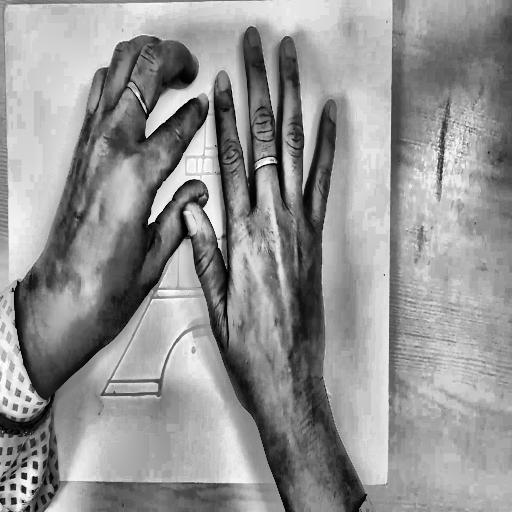bottom_left: (6, 476, 12, 486)
bottom_right: (384, 479, 389, 488)
eiffel-tower: (99, 77, 336, 404)
top_left: (3, 3, 8, 12)
